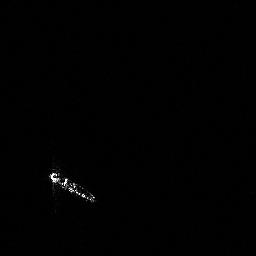ship: (48, 166, 97, 204)
